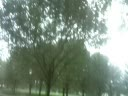window: (26, 74, 39, 89), (61, 87, 69, 95)
